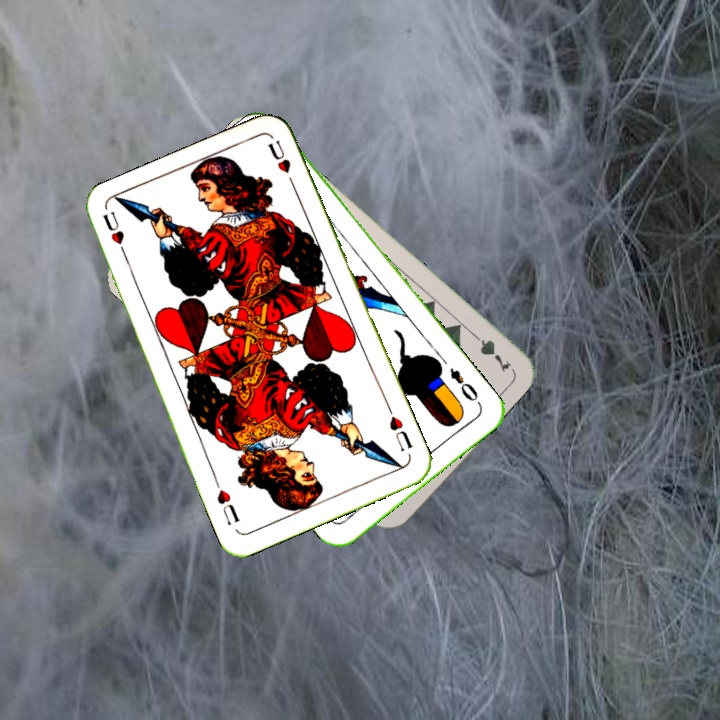EO: (445, 363, 481, 404)
G7: (465, 327, 515, 375)
HU: (99, 207, 131, 264), (385, 412, 415, 454)
